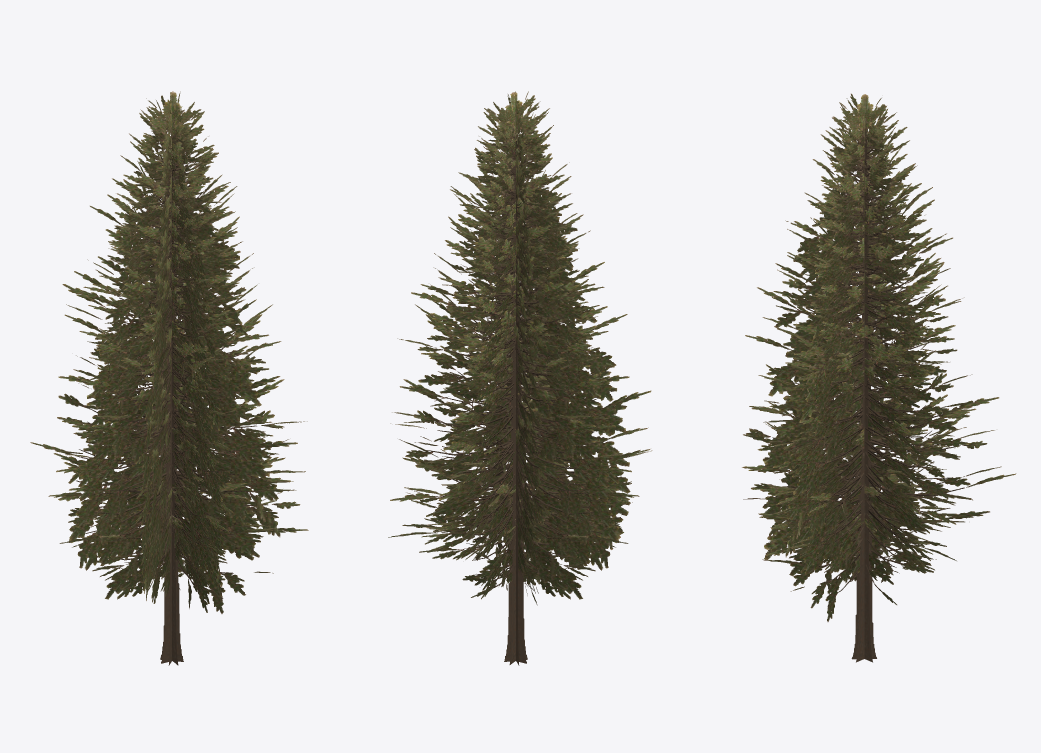
File: fir_medium_a_lod6_cross.gltf
3 renders of one model, left to right at view 1: azimuth 30°, elevation 25°; view 2: azimuth 150°, elevation 25°; view 3: azimuth 270°, elevation 25°, orthographic.
Visible parts, largest first — view 1: fir_medium_a_LOD6; view 2: fir_medium_a_LOD6; view 3: fir_medium_a_LOD6.
Part boxes in pixels (left/top/right/bottom): fir_medium_a_LOD6: left=30, top=91, right=308, bottom=665; fir_medium_a_LOD6: left=388, top=91, right=652, bottom=665; fir_medium_a_LOD6: left=742, top=93, right=1016, bottom=662.
Bounding box in the file's own units: 10.67 × 21.3 × 10.67.
1 material, 1 textured.
